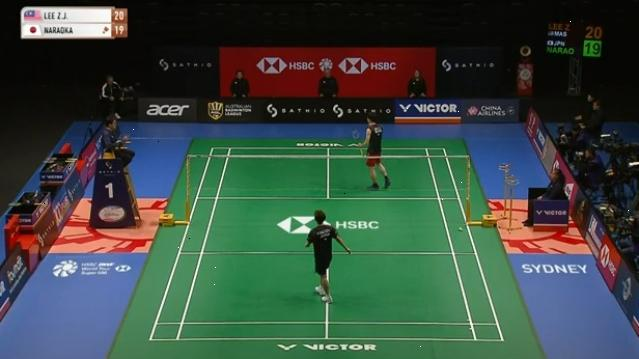Shuttlecock: (456, 223, 466, 232)
